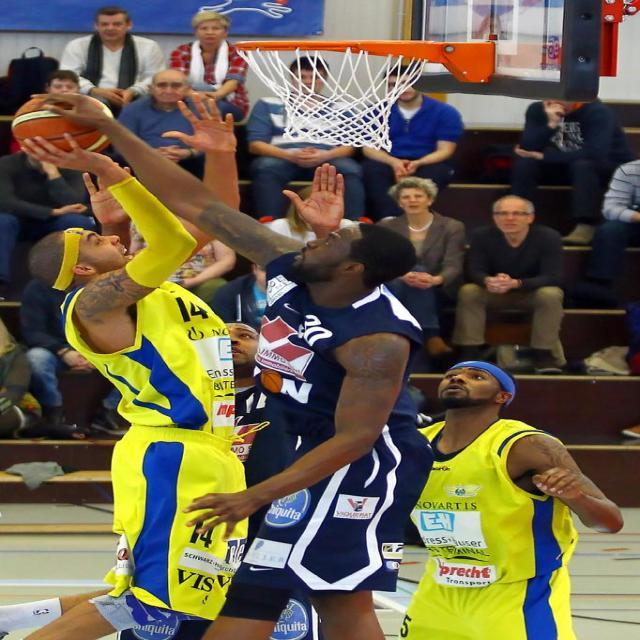rim: (16, 94, 105, 169)
